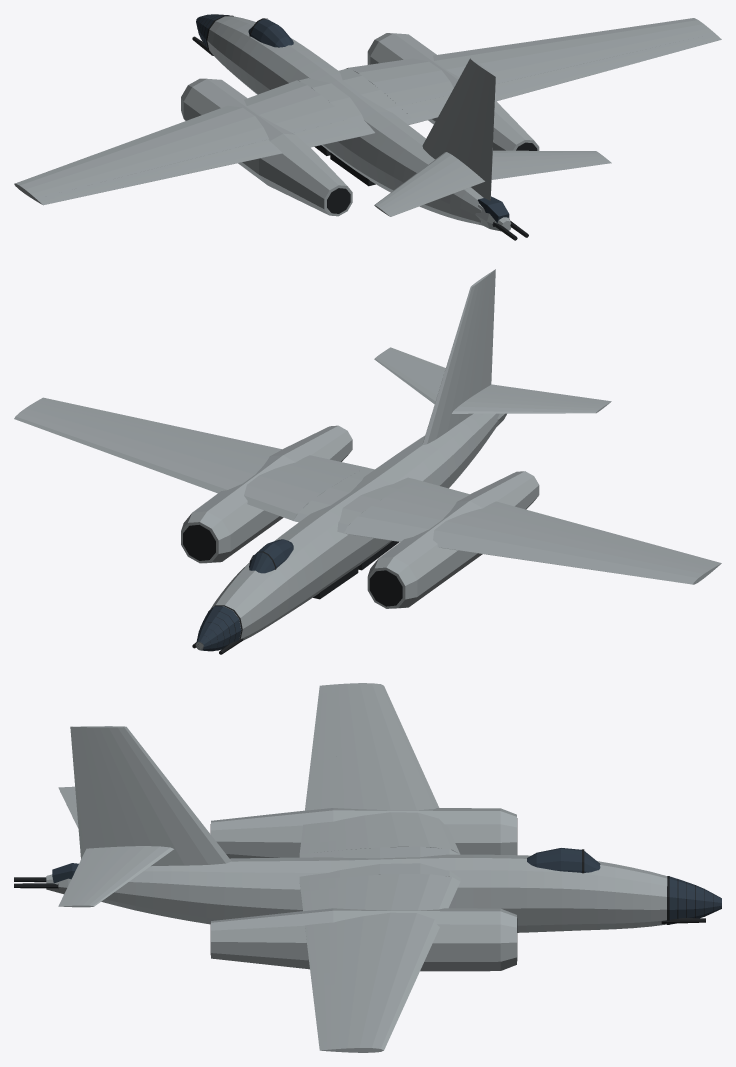
The picture shows the model from 3 angles, top to bottom: view 1: azimuth 30°, elevation 25°; view 2: azimuth 150°, elevation 25°; view 3: azimuth 270°, elevation 25°; orthographic projection. The views are drawn at different scales.
Parts seen in each view (by area): view 1: Wing L, Wing R, Fuselage, Nacelles, Vertical Fin, Rudder, Flap L, Stabilizer L, Flap R, Stabilizer R, Aileron L, Elevator L (+8 smaller); view 2: Wing L, Fuselage, Wing R, Nacelles, Vertical Fin, Stabilizer L, Rudder, Flap L, Flap R, Nose Glass, Stabilizer R, Cockpit Glass (+5 smaller); view 3: Fuselage, Nacelles, Wing R, Wing L, Vertical Fin, Rudder, Stabilizer R, Flap R, Flap L, Nose Glass, Cockpit Glass, Elevator R (+2 smaller).
Part boxes in pixels (x1,y1,x2,y2): Wing L: [14, 78, 374, 205]; Wing R: [338, 18, 721, 124]; Fuselage: [207, 16, 483, 225]; Nacelles: [181, 33, 539, 216]; Vertical Fin: [422, 58, 486, 164]; Rudder: [466, 70, 495, 200]; Flap L: [177, 123, 346, 173]; Stabilizer L: [374, 152, 471, 213]; Flap R: [419, 66, 584, 117]; Stabilizer R: [492, 150, 605, 167]; Aileron L: [52, 168, 165, 201]; Elevator L: [385, 170, 484, 216]; Wing L: [337, 477, 721, 584]; Fuselage: [196, 413, 499, 650]; Wing R: [14, 397, 374, 522]; Nacelles: [181, 425, 539, 608]; Vertical Fin: [422, 275, 487, 444]; Stabilizer L: [452, 392, 606, 413]; Rudder: [468, 269, 495, 416]; Flap L: [419, 485, 584, 531]; Flap R: [177, 429, 346, 471]; Nose Glass: [196, 606, 241, 650]; Stabilizer R: [374, 351, 442, 404]; Cockpit Glass: [249, 539, 293, 573]; Fuselage: [101, 854, 667, 932]; Nacelles: [211, 808, 516, 971]; Wing R: [299, 863, 460, 1052]; Wing L: [299, 683, 460, 858]; Vertical Fin: [90, 726, 231, 866]; Rudder: [70, 726, 129, 858]; Stabilizer R: [70, 846, 173, 907]; Flap R: [301, 888, 337, 974]; Flap L: [301, 759, 337, 844]; Nose Glass: [669, 876, 721, 924]; Cockpit Glass: [527, 848, 600, 872]; Elevator R: [58, 847, 115, 906].
Bounding box in the file's own units: 21.46 × 5.68 × 17.6.
